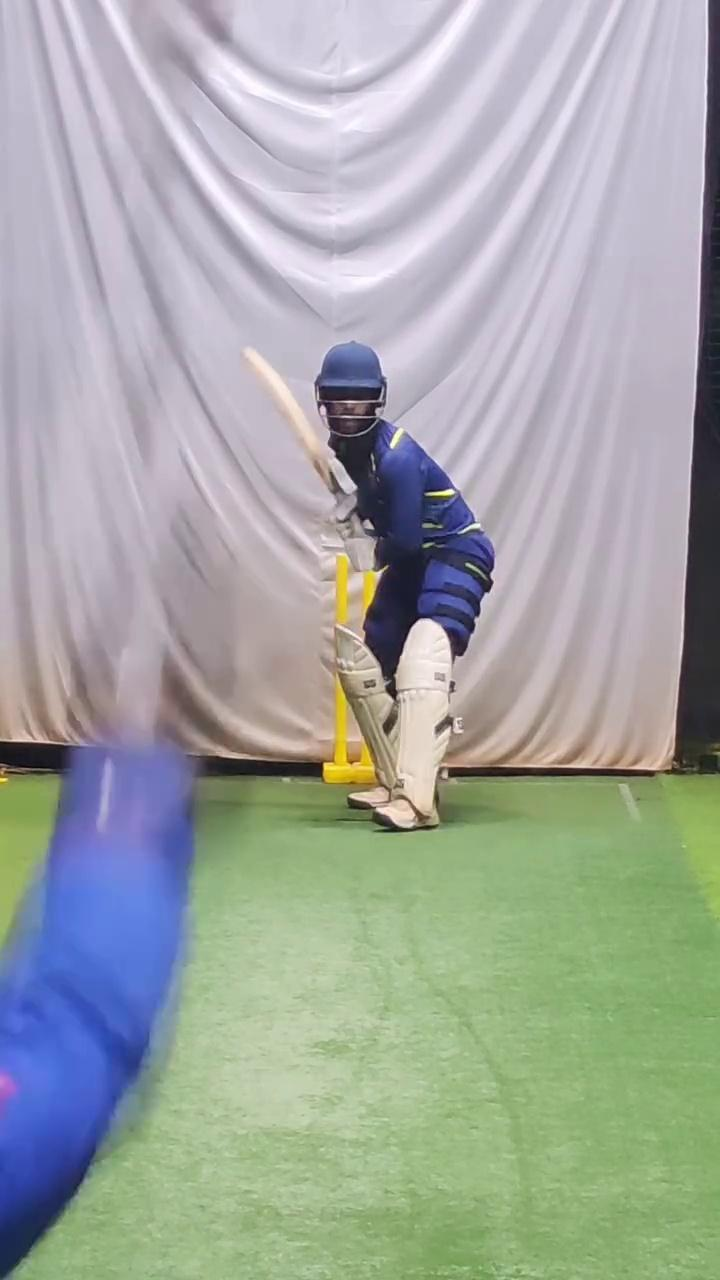bat: (233, 336, 356, 504)
